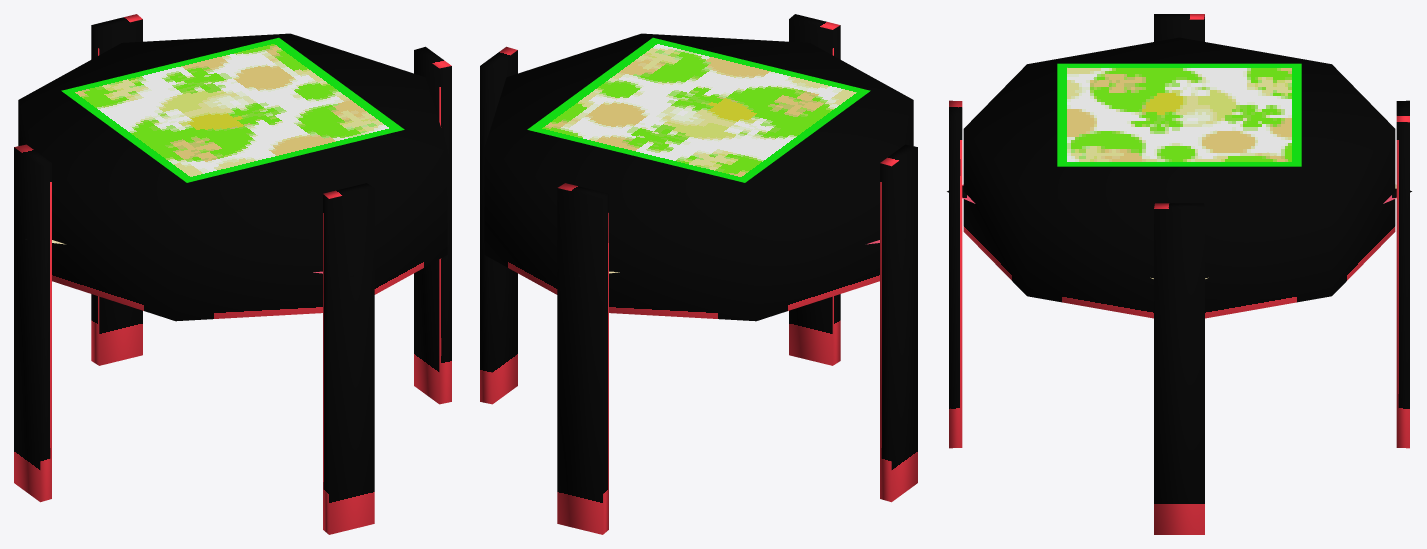
The picture shows the model from 3 angles, left to right: view 1: azimuth 30°, elevation 25°; view 2: azimuth 150°, elevation 25°; view 3: azimuth 270°, elevation 25°; orthographic projection. The views are drawn at different scales.
Visible parts, largest first — view 1: 3665kg_ga_ta0; view 2: 3665kg_ga_ta0; view 3: 3665kg_ga_ta0.
Part boxes in pixels (x1,y1,x2,y2): 3665kg_ga_ta0: (14,14,451,534); 3665kg_ga_ta0: (480,14,917,534); 3665kg_ga_ta0: (947,14,1411,534).
Size of the model in its own units: 0.9829 by 0.7585 by 0.9829.
Materials: 2 (2 with a texture image).
